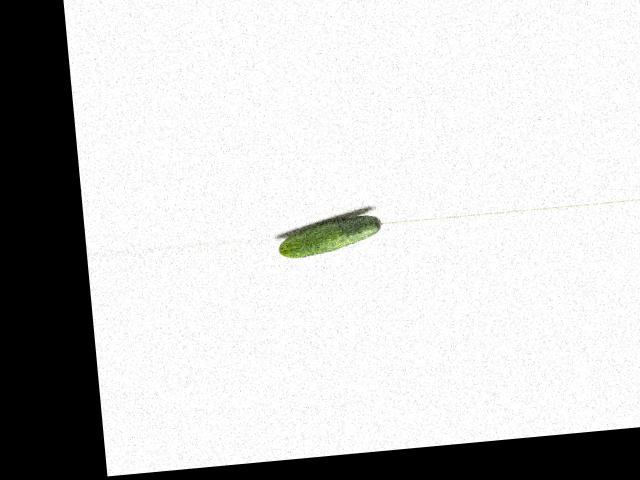cucumber: (276, 212, 385, 259)
